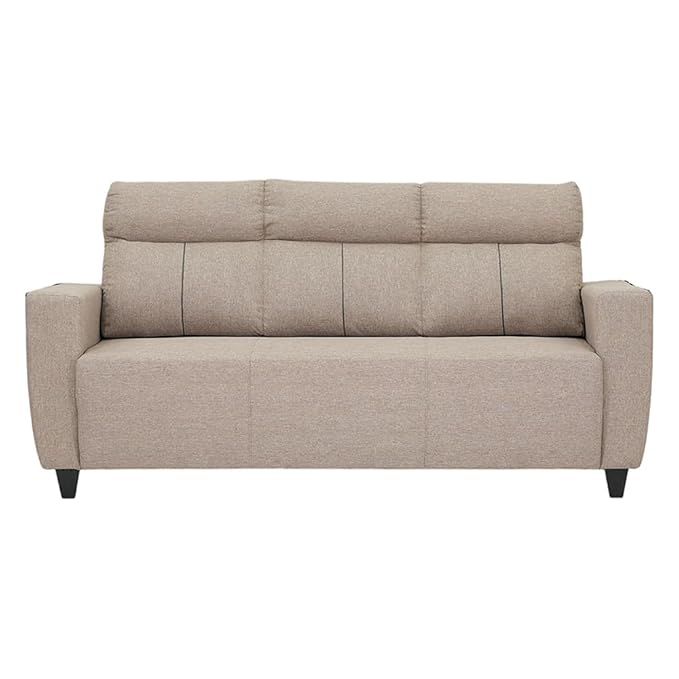3seatersofa: (27, 179, 651, 496)
backrest: (99, 179, 584, 337)
leftarmrest: (587, 278, 650, 470)
leg: (604, 470, 630, 497), (56, 471, 79, 497)
rightarmrest: (24, 282, 99, 468)
seat: (73, 337, 600, 468)
